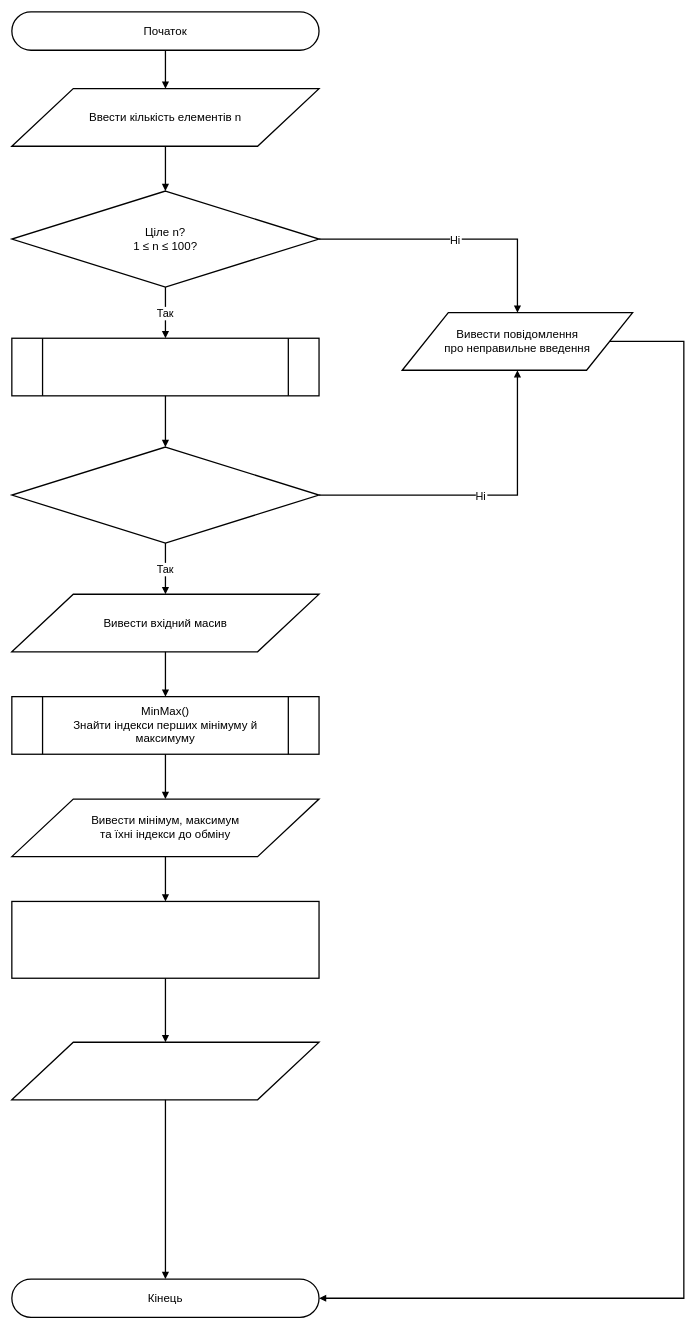
Image size: 700x1329. Some labels were removed from this diagram. The centre of each missing label's shape, as x and y in pixels:
Make() Обрати спосіб і створити глобальний arr: the point at 165,366
temp = arr[imin] arr[imin] = arr[imax] arr[imax] = temp: the point at 165,939
Вивести вихідний масив: the point at 165,1070
Масив створено без помилки?: the point at 165,494
